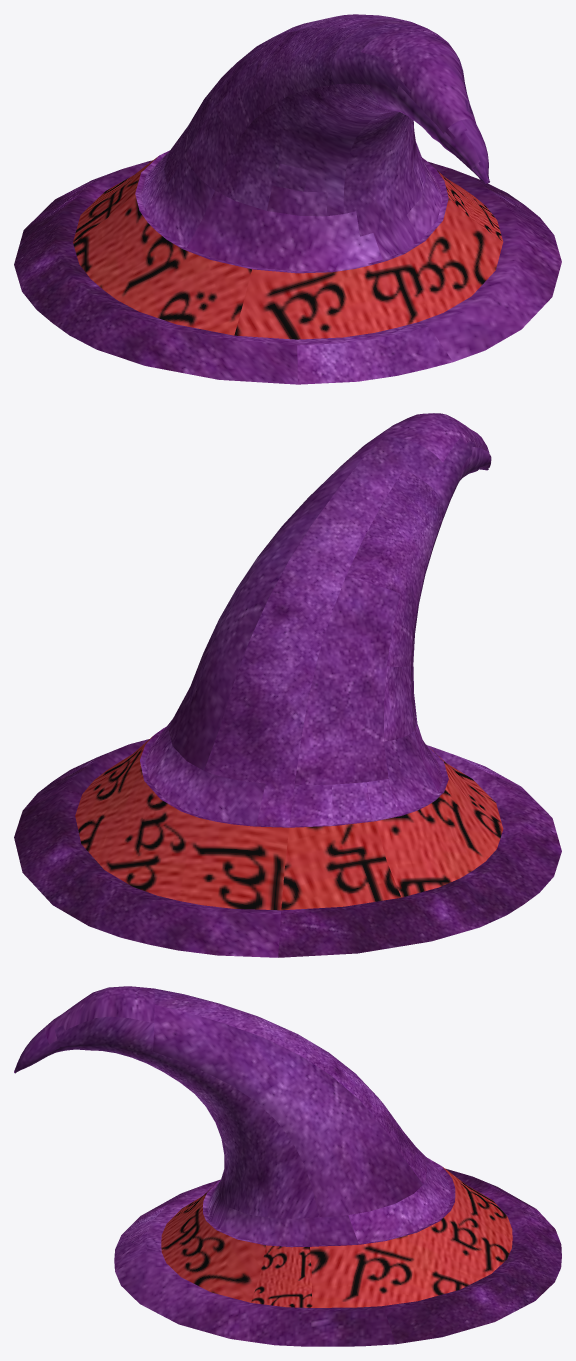
File: Le vrai chapal.fbx
3 views of the same model, one above another, from view 1: azimuth 30°, elevation 25°; view 2: azimuth 150°, elevation 25°; view 3: azimuth 270°, elevation 25° (orthographic). The views are drawn at different scales.
Visible parts, largest first — view 1: SurfCircle.004; view 2: SurfCircle.004; view 3: SurfCircle.004.
Part boxes in pixels (x1,y1,x2,y2): SurfCircle.004: [14, 14, 561, 384]; SurfCircle.004: [14, 413, 561, 957]; SurfCircle.004: [14, 986, 561, 1346].
Bounding box in the file's own units: 253 × 169 × 313.
